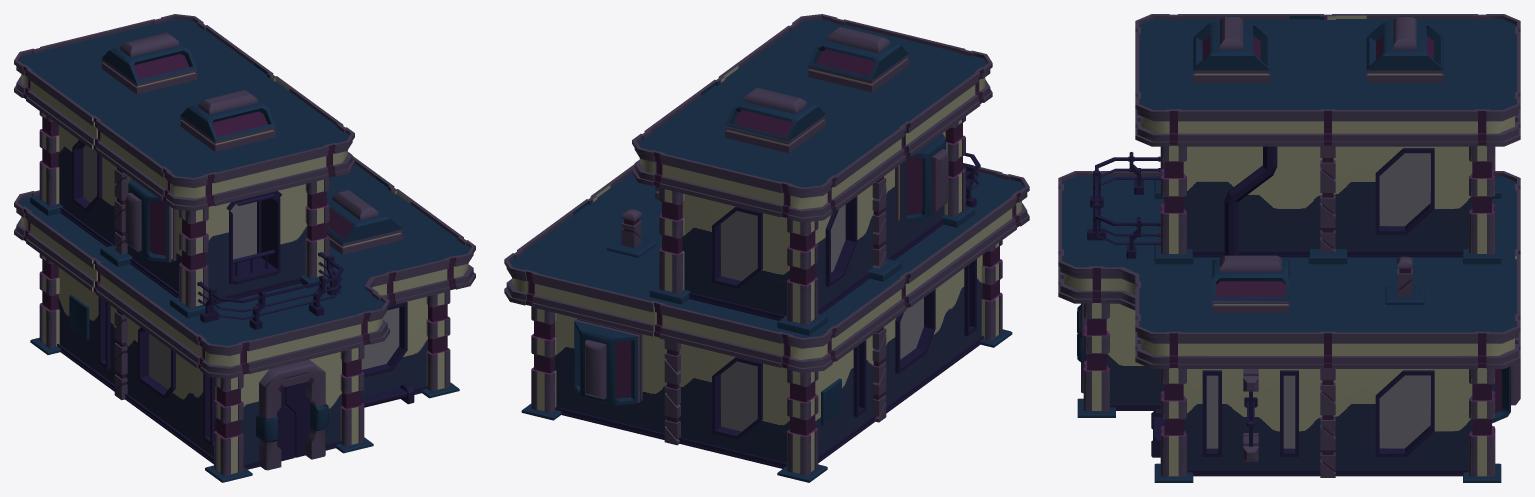
Rendered from Arcade.gltf.
The picture shows the model from 3 angles, left to right: view 1: azimuth 30°, elevation 25°; view 2: azimuth 150°, elevation 25°; view 3: azimuth 270°, elevation 25°; orthographic projection. The views are drawn at different scales.
Visible parts, largest first — view 1: pillarSmallAEnd8; view 2: pillarSmallAEnd8; view 3: pillarSmallAEnd8.
Boxes of the visible parts, box(x1,y1,x2,y2) form: pillarSmallAEnd8: box(14, 14, 475, 482); pillarSmallAEnd8: box(504, 14, 1029, 482); pillarSmallAEnd8: box(1058, 14, 1520, 482).
Size of the model in its own units: 1000 by 1000 by 1200.
Materials: 4 (4 with a texture image).
